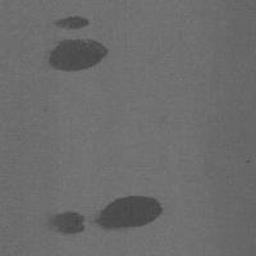Oil spot: (44, 195, 164, 236), (47, 37, 110, 72), (51, 15, 90, 31)
